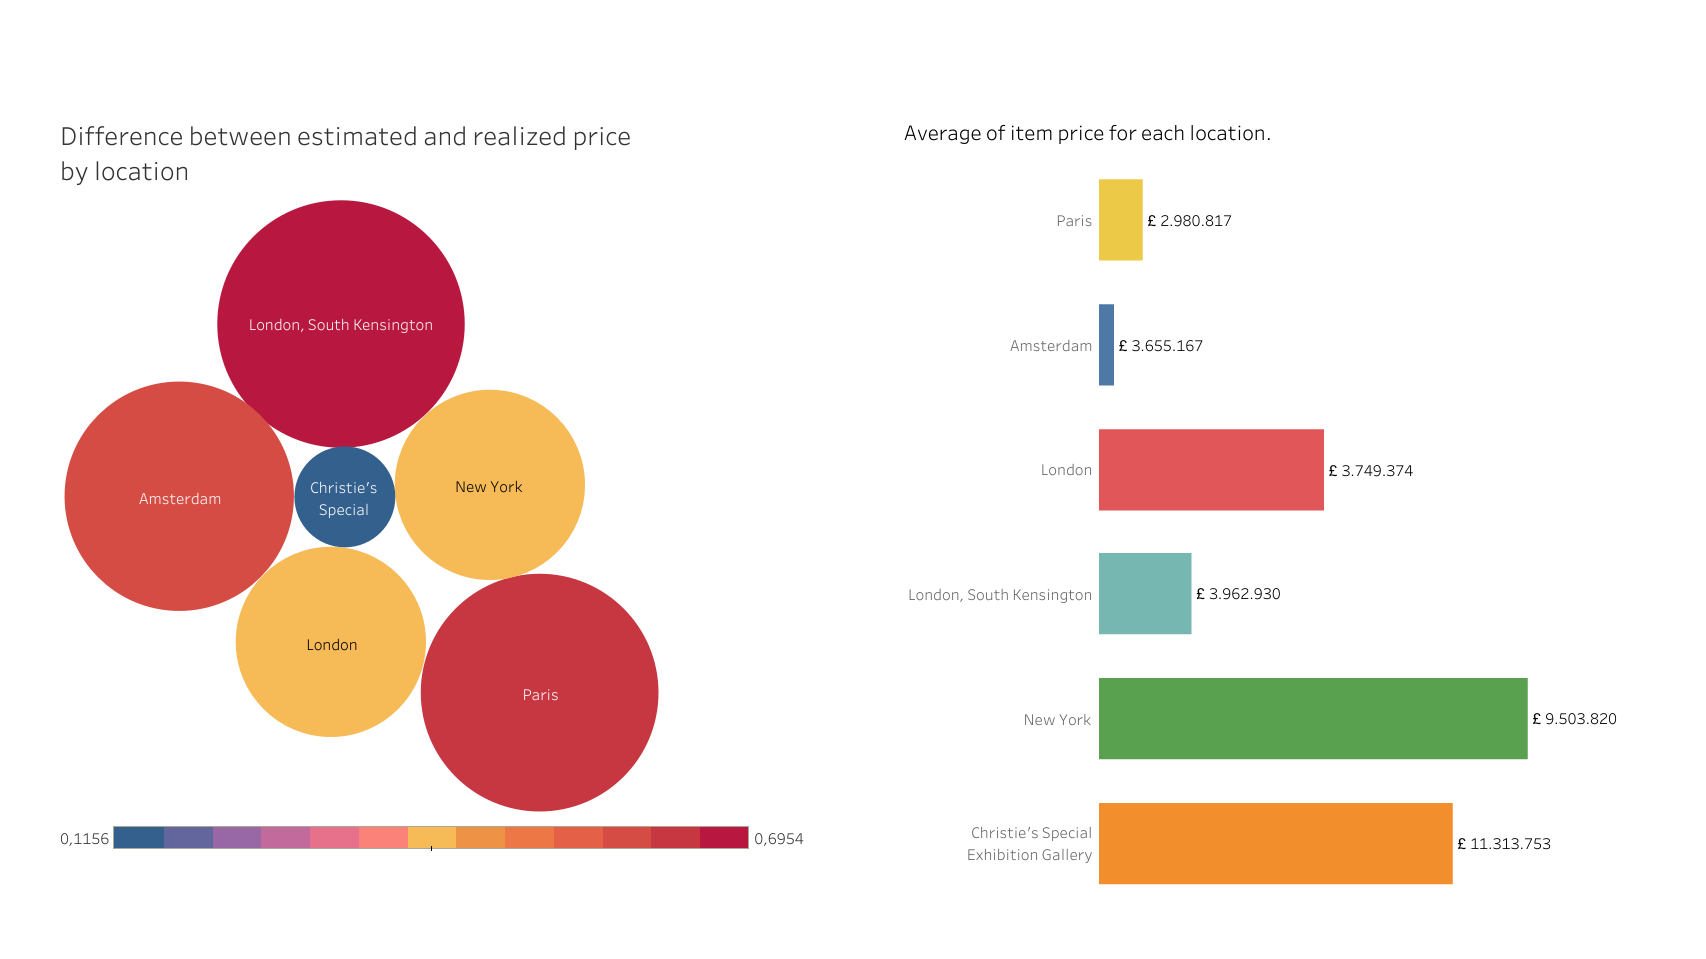

This screenshot's page, from the dashboard's own definition file:
{"tool":"tableau","page":{"name":"prices info by location","canvas":[1366,768],"ordinal":5},"visuals":[{"type":"blank","box":[8,8,31.8,752]},{"type":"blank","box":[39.8,8,1286.2,76.4]},{"type":"blank","box":[1326,8,32,752]},{"type":"worksheet","title":"diff by location","mark":"Circle","box":[39.8,84.4,612,568.6]},{"type":"blank","box":[651.8,84.4,63,643.6]},{"type":"worksheet","title":"Average item price for location","mark":"Automatic","rows":["location"],"cols":["realized"],"box":[714.8,84.4,611.2,643.6]},{"type":"legend","title":"diff by location","param":"[federated.03kuak70c6f8cl1fomzfm1t0per9].[usr:Calculation_1336161764688257024:qk","box":[39.8,653,612,75]},{"type":"blank","box":[39.8,728,1286.2,32]}]}

Visuals, with their boxes in screenshot pixels (x1, y1, x2, y2), scaled from the page's 1366x768 canvas onto the 1706x959 screenshot:
blank: detection(10, 10, 50, 949)
blank: detection(50, 10, 1656, 105)
blank: detection(1656, 10, 1696, 949)
"diff by location" worksheet (Circle marks): detection(50, 105, 814, 815)
blank: detection(814, 105, 893, 909)
"Average item price for location" worksheet: detection(893, 105, 1656, 909)
"diff by location" legend: detection(50, 815, 814, 909)
blank: detection(50, 909, 1656, 949)
